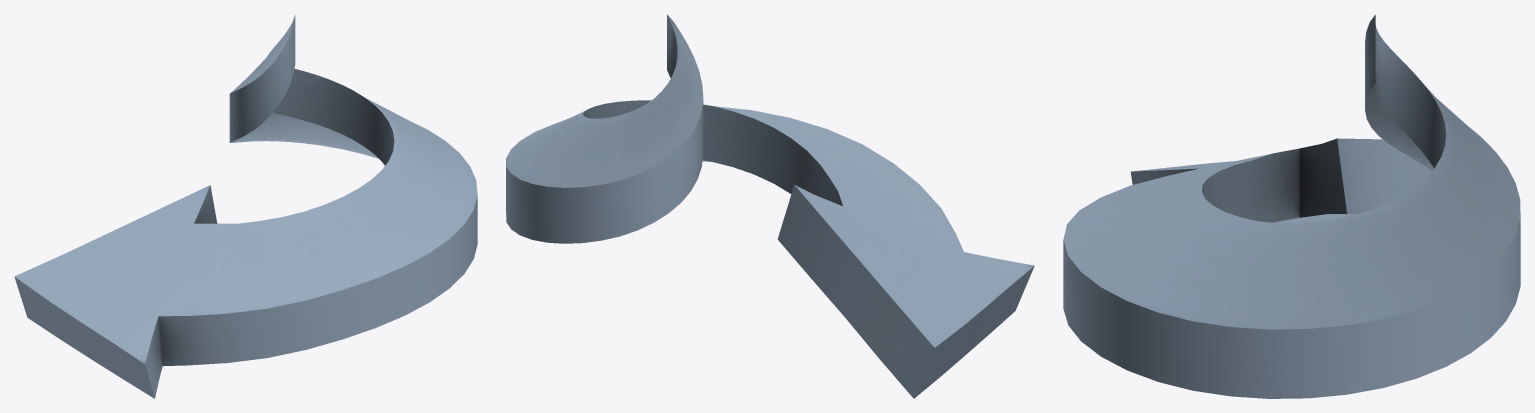
Rendered from GnarlForce.DAE.
3 views of the same model, side by side, from view 1: azimuth 30°, elevation 25°; view 2: azimuth 150°, elevation 25°; view 3: azimuth 270°, elevation 25° (orthographic). The views are drawn at different scales.
Visible parts, largest first — view 1: gnarl; view 2: gnarl; view 3: gnarl.
Part boxes in pixels (box(x1,y1,x2,y2)): gnarl: box(14, 15, 477, 398); gnarl: box(506, 14, 1034, 398); gnarl: box(1063, 14, 1520, 398).
Size of the model in its own units: 79.46 by 56.11 by 51.16.
1 material, 1 textured.
